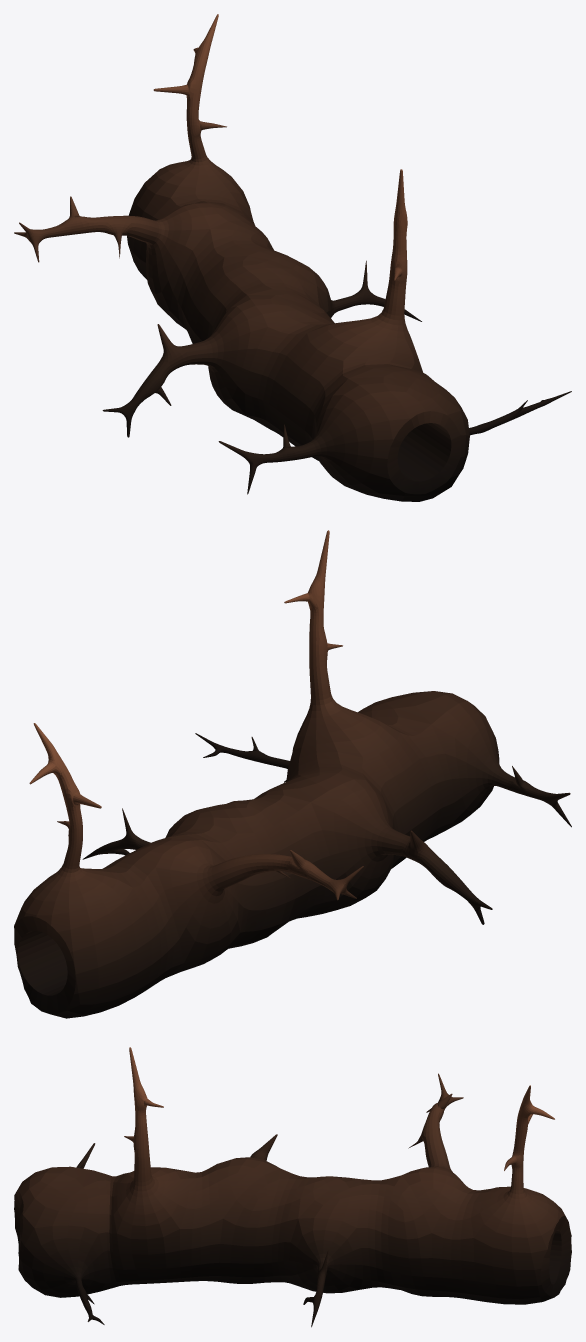
Rendered from thorn_log.fbx.
3 views of the same model, one above another, from view 1: azimuth 30°, elevation 25°; view 2: azimuth 150°, elevation 25°; view 3: azimuth 270°, elevation 25° (orthographic). The views are drawn at different scales.
Parts seen in each view (by area): view 1: thorn_log; view 2: thorn_log; view 3: thorn_log.
Part boxes in pixels (left/top/right/bottom): thorn_log: left=14, top=14, right=571, bottom=501; thorn_log: left=14, top=530, right=571, bottom=1018; thorn_log: left=14, top=1047, right=571, bottom=1327.
Size of the model in its own units: 1945 by 1455 by 2871.
